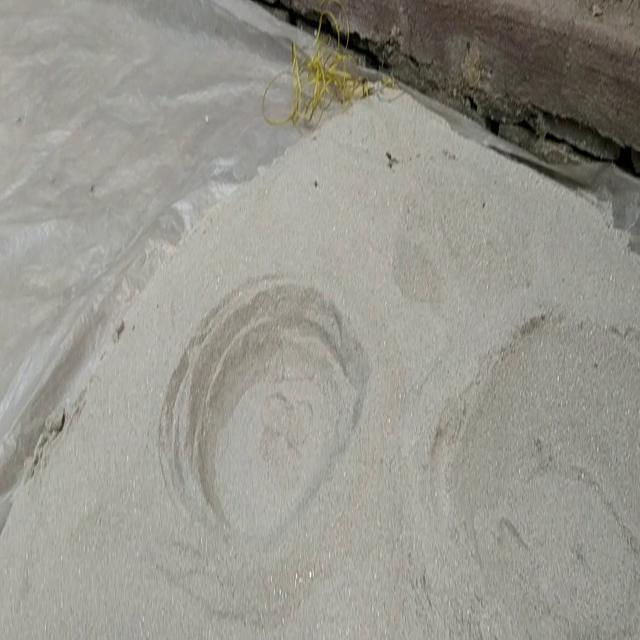C20: (430, 316, 640, 637), (159, 276, 368, 539)
